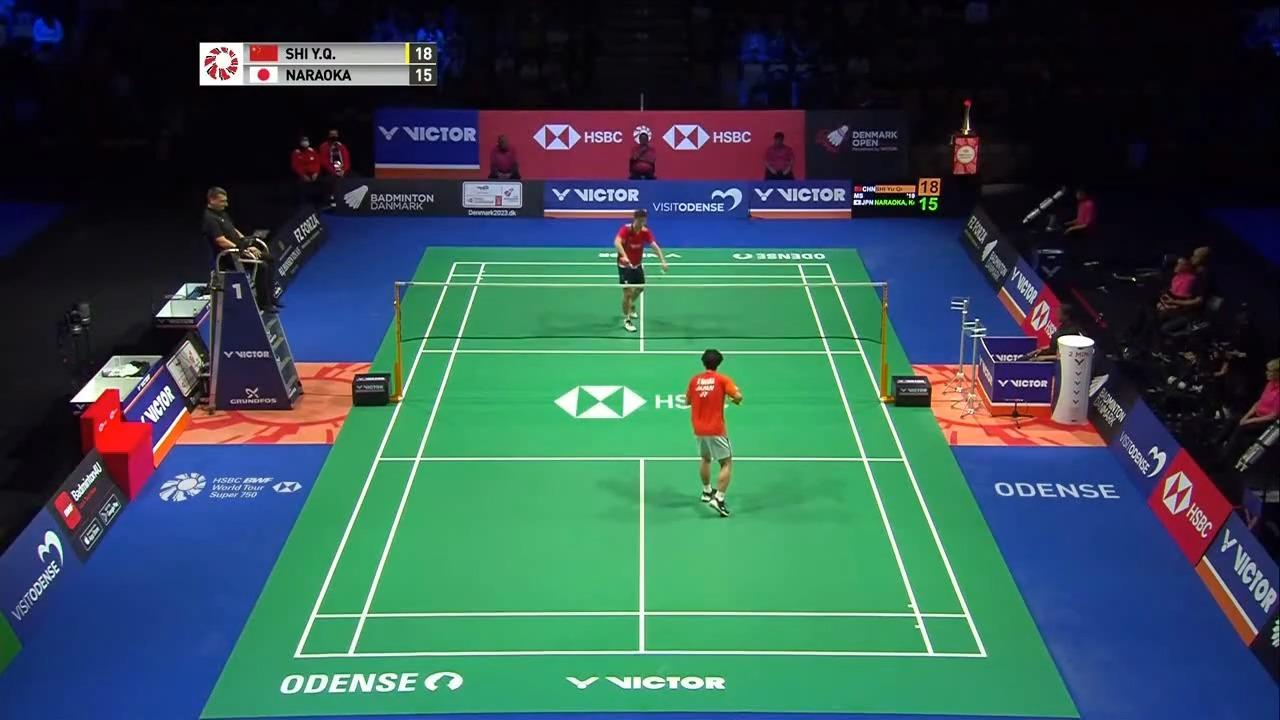shuttle: (658, 264, 671, 280)
